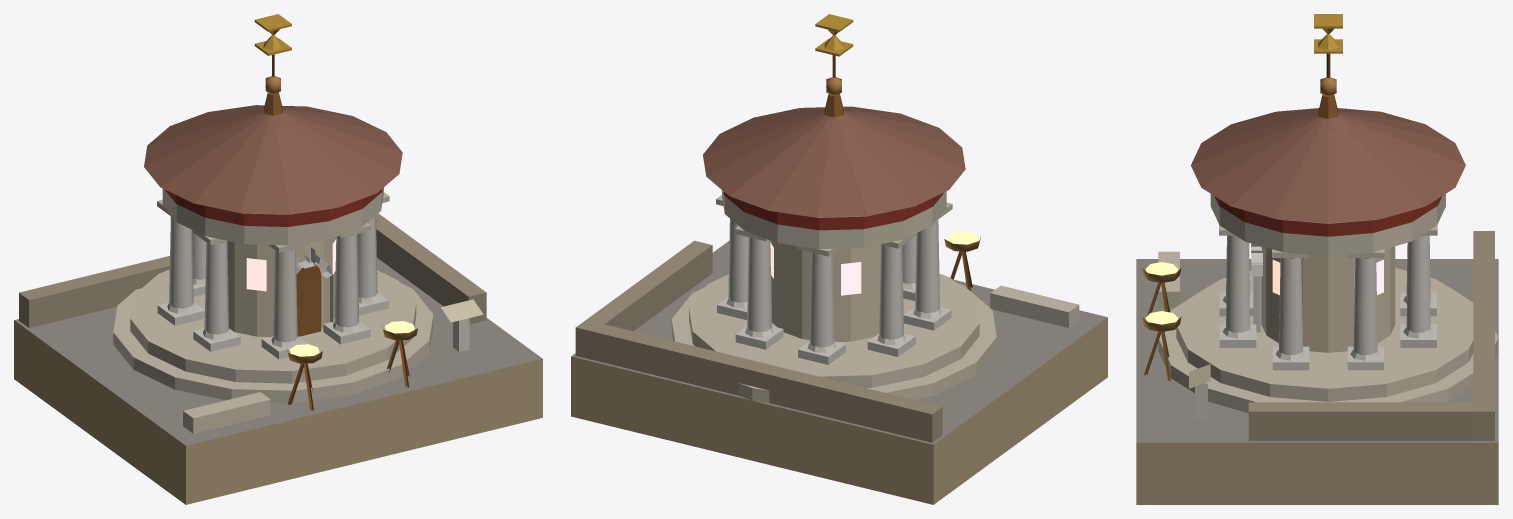
File: keeperslog.glb
The picture shows the model from 3 angles, left to right: view 1: azimuth 30°, elevation 25°; view 2: azimuth 150°, elevation 25°; view 3: azimuth 270°, elevation 25°; orthographic projection. The views are drawn at different scales.
Parts seen in each view (by area): view 1: keeperslog_body, keeperslog_body_windows, keeperslog_body_lamps; view 2: keeperslog_body, keeperslog_body_windows; view 3: keeperslog_body, keeperslog_body_lamps, keeperslog_body_windows.
Boxes of the visible parts, <box> form: keeperslog_body: <box>14,14,542,504</box>; keeperslog_body_windows: <box>246,239,336,291</box>; keeperslog_body_lamps: <box>289,321,414,356</box>; keeperslog_body: <box>571,14,1107,504</box>; keeperslog_body_windows: <box>770,242,861,295</box>; keeperslog_body: <box>1136,14,1498,504</box>; keeperslog_body_lamps: <box>1145,262,1177,324</box>; keeperslog_body_windows: <box>1272,259,1383,295</box>.
Bounding box in the file's own units: 12 × 11.98 × 10.
